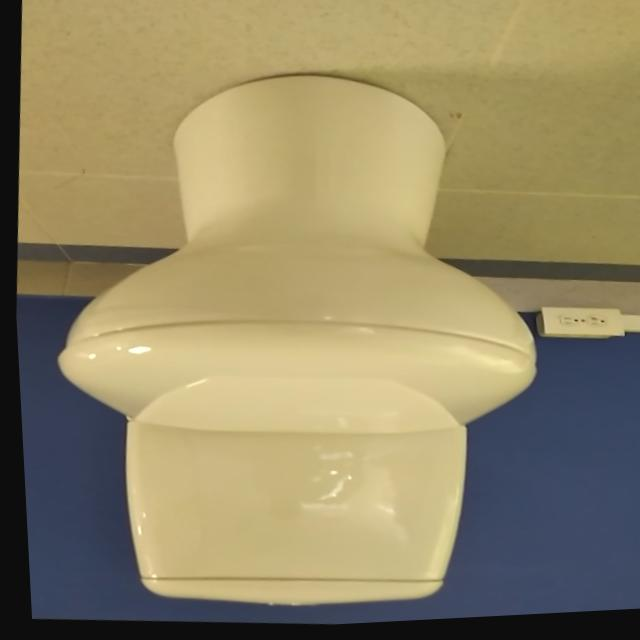toilet: (23, 51, 562, 635)
